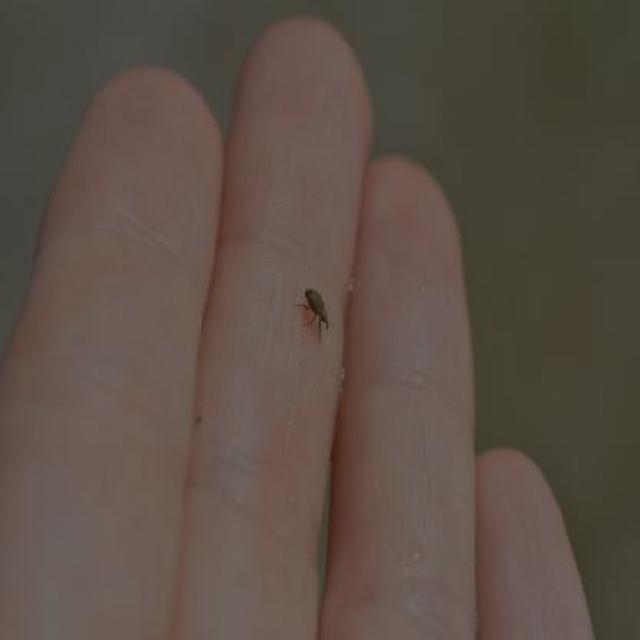rice-bug: (298, 282, 336, 336)
